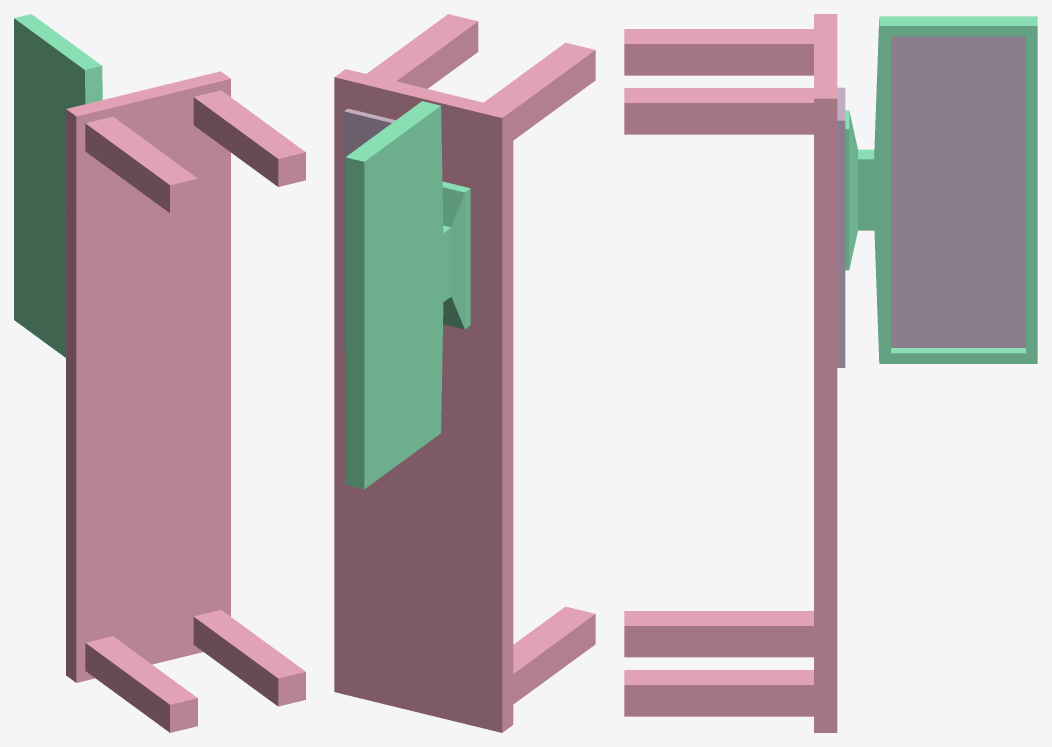
Rendered from house.fbx.
The picture shows the model from 3 angles, left to right: view 1: azimuth 30°, elevation 25°; view 2: azimuth 150°, elevation 25°; view 3: azimuth 270°, elevation 25°; orthographic projection. The views are drawn at different scales.
Parts seen in each view (by area): view 1: Cube; view 2: Cube; view 3: Cube.
Part boxes in pixels (x1,y1,x2,y2): Cube: (14, 14, 305, 732); Cube: (334, 14, 595, 732); Cube: (624, 14, 1037, 732).
Bounding box in the file's own units: 200 × 720 × 414.
